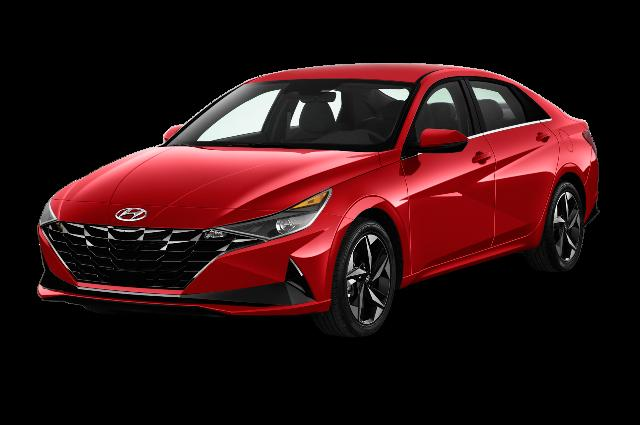hyundai: (37, 64, 600, 338)
